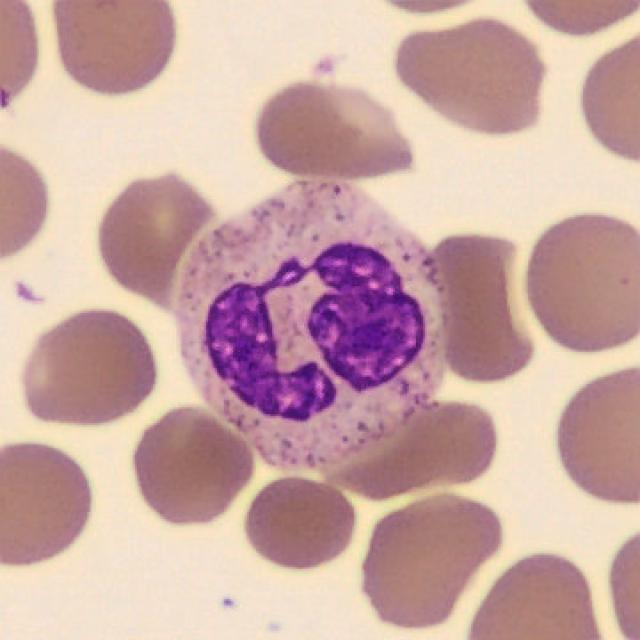Neutrofilo segmentado: (171, 178, 448, 469)
